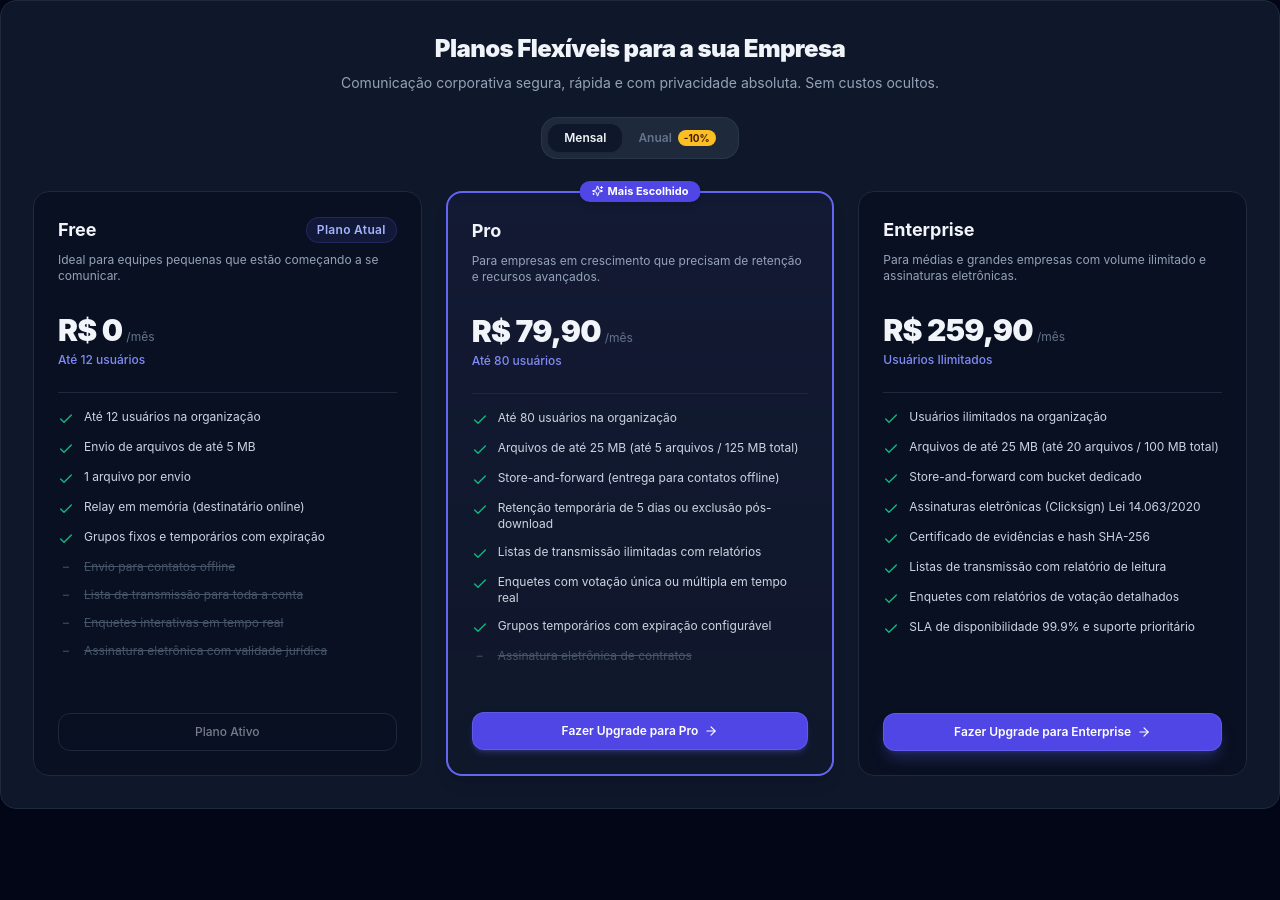
Test: Plans, Invoices & Account Dashboard Frontend (T-30) › PlansComparisonSection Component › toggles between monthly and yearly billing cycles with 10% discount
Click the text "Anual".
click(655, 138)  # box [638, 130, 672, 146]
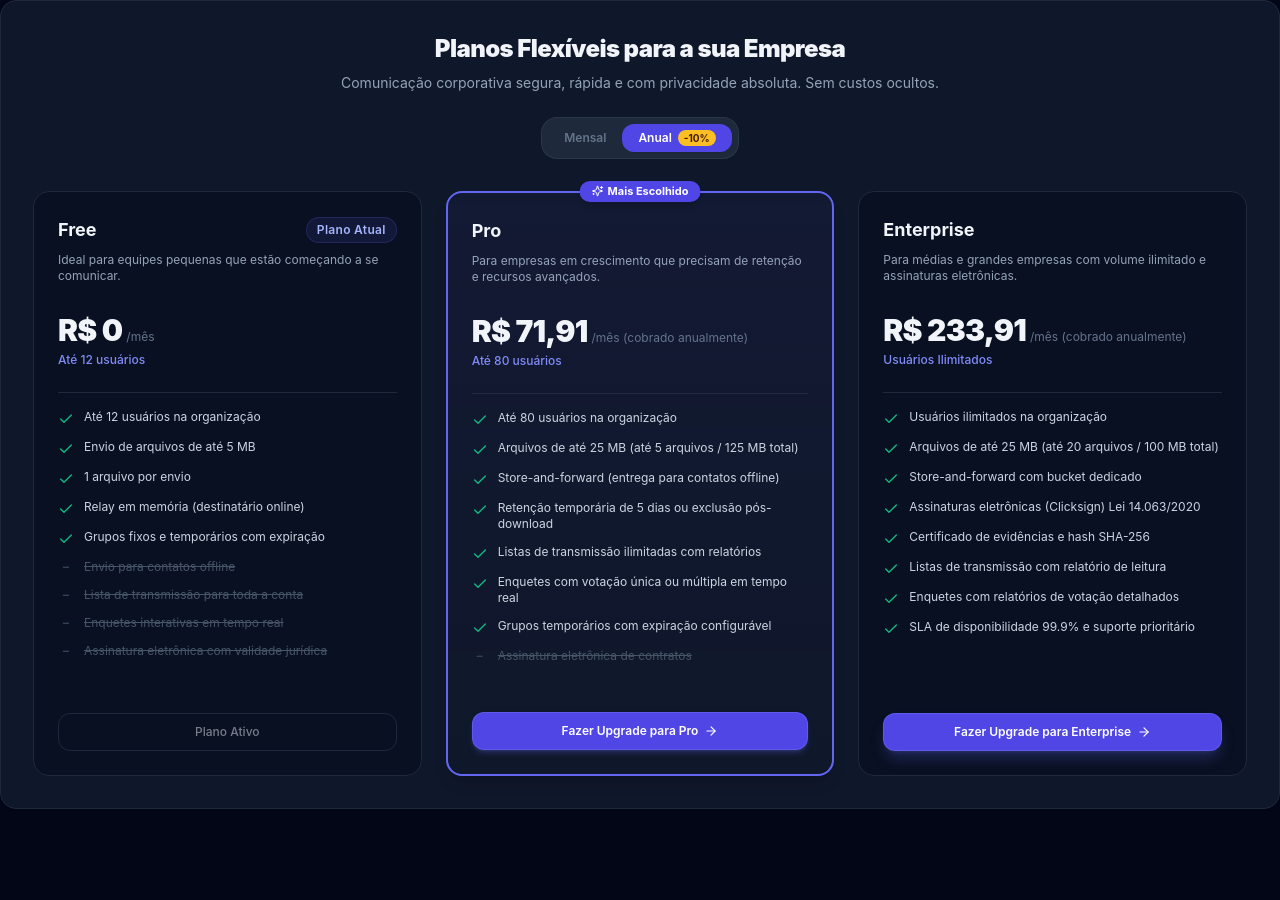
Result: the text "R$ 71,91" is shown at [472, 313, 588, 349]
Result: the text "R$ 233,91" is shown at [883, 312, 1026, 348]
